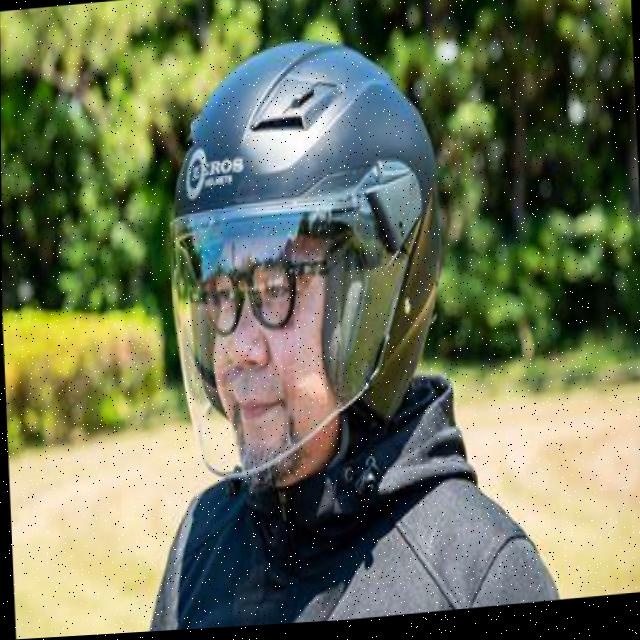helmet: (156, 20, 459, 505)
